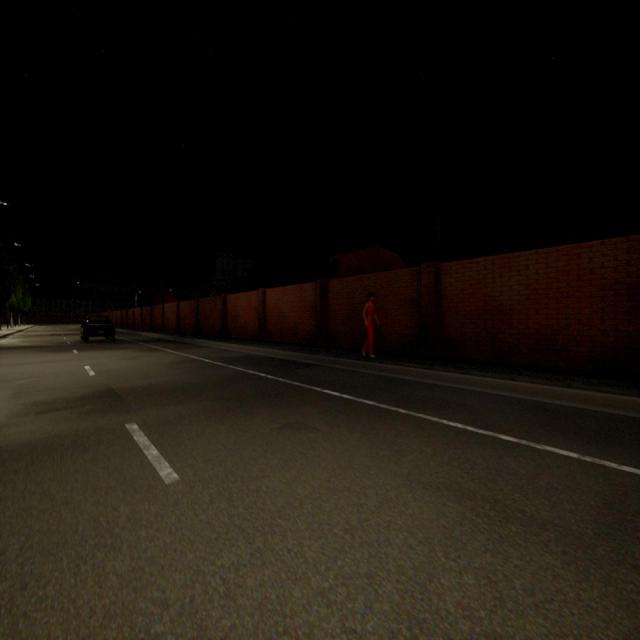Pedestrian: (361, 292, 379, 357)
Vehicle: (81, 315, 114, 342)
